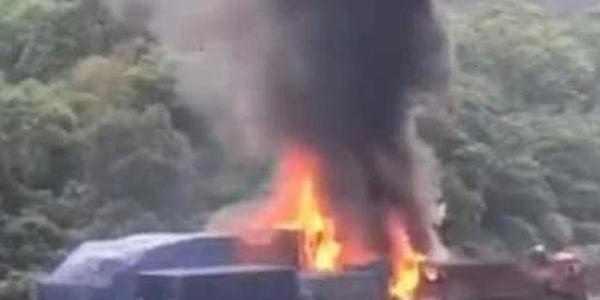fire: (267, 150, 345, 273), (381, 220, 431, 300)
